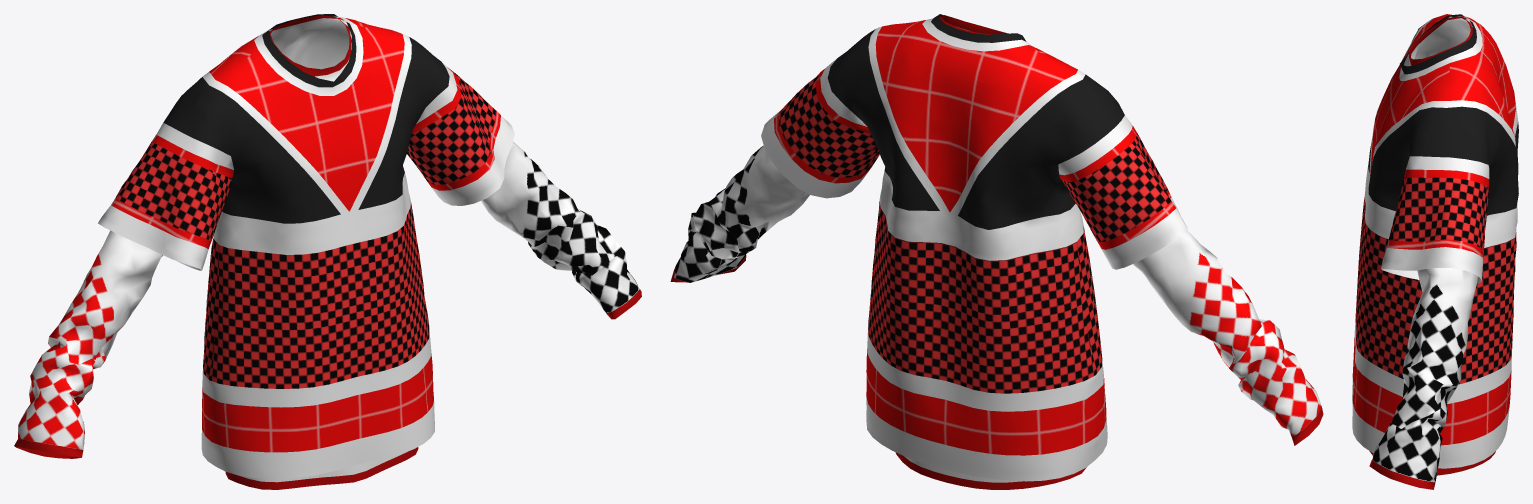
The model's file is party_starter_-_layered_t-shirts.glb.
3 views of the same model, side by side, from view 1: azimuth 30°, elevation 25°; view 2: azimuth 150°, elevation 25°; view 3: azimuth 270°, elevation 25° (orthographic). The views are drawn at different scales.
Parts seen in each view (by area): view 1: PartyStarter-LayeredTShirts-LowPoly_0; view 2: PartyStarter-LayeredTShirts-LowPoly_0; view 3: PartyStarter-LayeredTShirts-LowPoly_0.
Boxes of the visible parts, bbox=[...] form: PartyStarter-LayeredTShirts-LowPoly_0: bbox=[14, 14, 641, 489]; PartyStarter-LayeredTShirts-LowPoly_0: bbox=[670, 14, 1323, 489]; PartyStarter-LayeredTShirts-LowPoly_0: bbox=[1352, 14, 1518, 489].
Bounding box in the file's own units: 1.47 × 0.9728 × 0.3589.
1 material, 1 textured.
